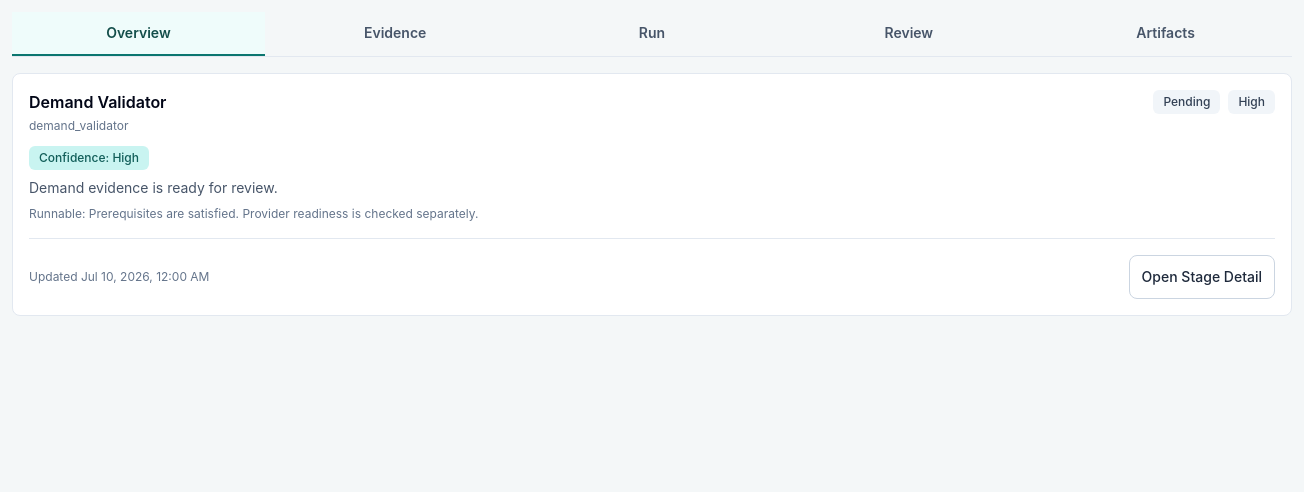
it: StageWorkbenchTabs › disables the Run panel action while the stage is already in flight
Click the tab "Run": (652, 34) [526,12,778,56]
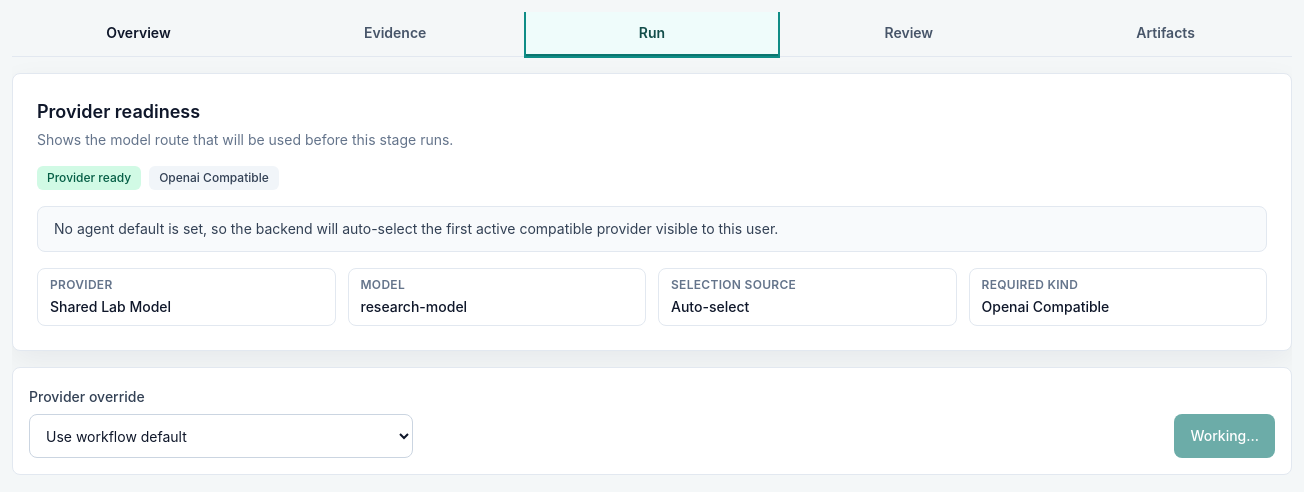
Expected: the button "Working..." is disabled, [1174,414,1275,458]
